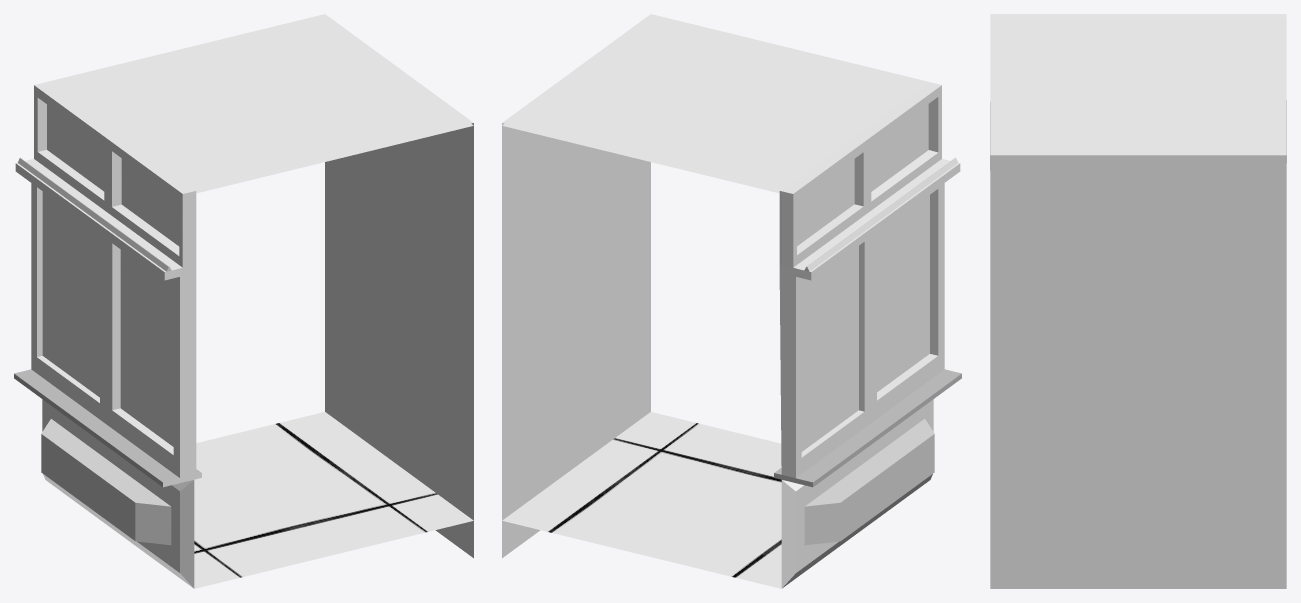
Rendered from WALL_CorridorWindowsOutside_Clean.fbx.
3 views of the same model, side by side, from view 1: azimuth 30°, elevation 25°; view 2: azimuth 150°, elevation 25°; view 3: azimuth 270°, elevation 25° (orthographic).
Visible parts, largest first — view 1: Wall_CorridorWindowsOutside; view 2: Wall_CorridorWindowsOutside; view 3: Wall_CorridorWindowsOutside.
Part boxes in pixels (left/top/right/bottom): Wall_CorridorWindowsOutside: left=14, top=14, right=473, bottom=588; Wall_CorridorWindowsOutside: left=502, top=14, right=961, bottom=588; Wall_CorridorWindowsOutside: left=990, top=14, right=1286, bottom=588.
Size of the model in its own units: 228 by 304 by 189.
